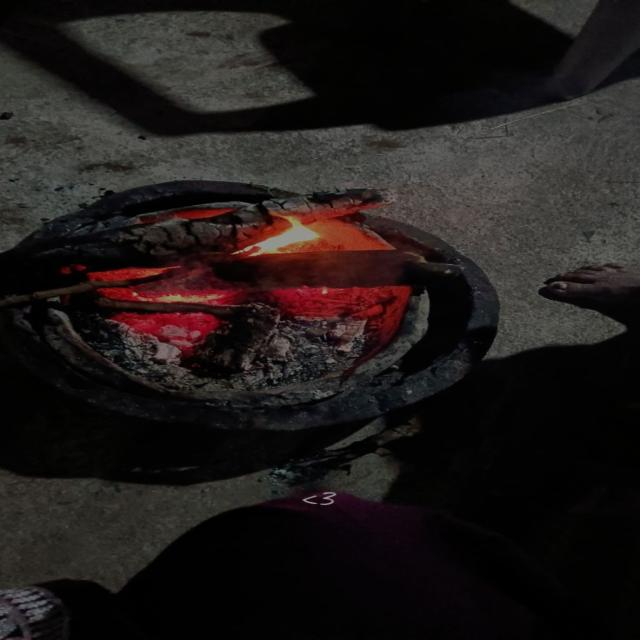fire: (231, 212, 321, 256)
